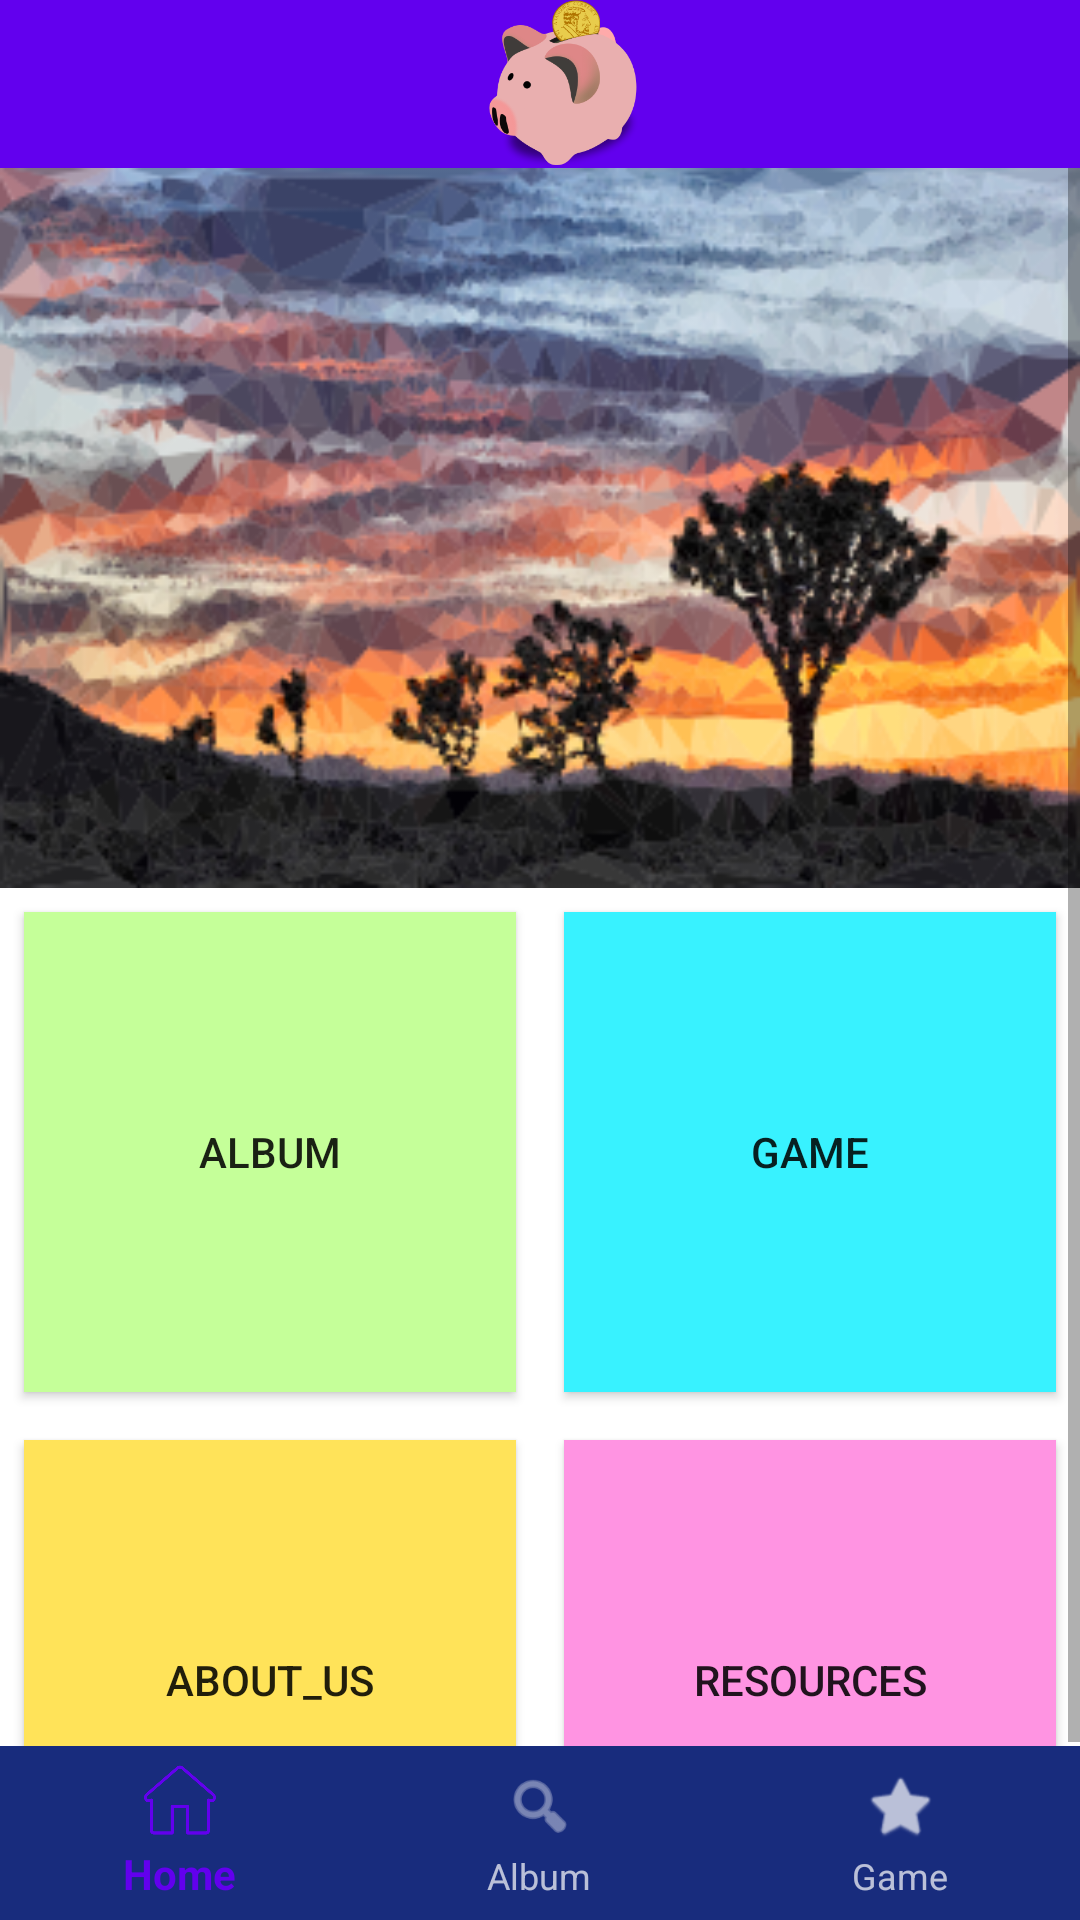

Screen size 1080px×1920px. Icon name, then its center in pixels as (x=x, y=y):
coin: (x=563, y=82)
